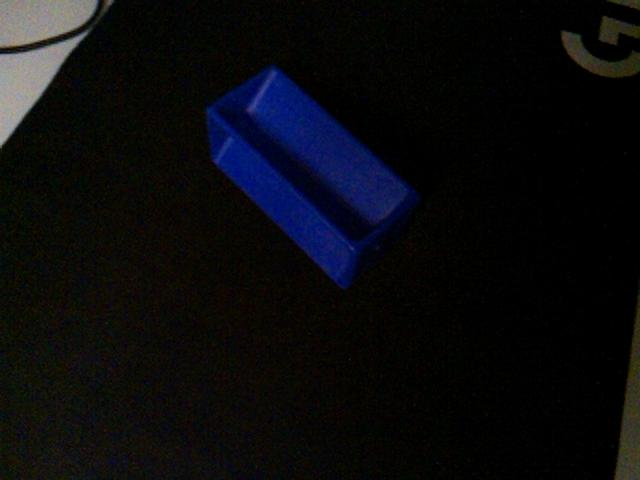blue: (204, 63, 421, 291)
